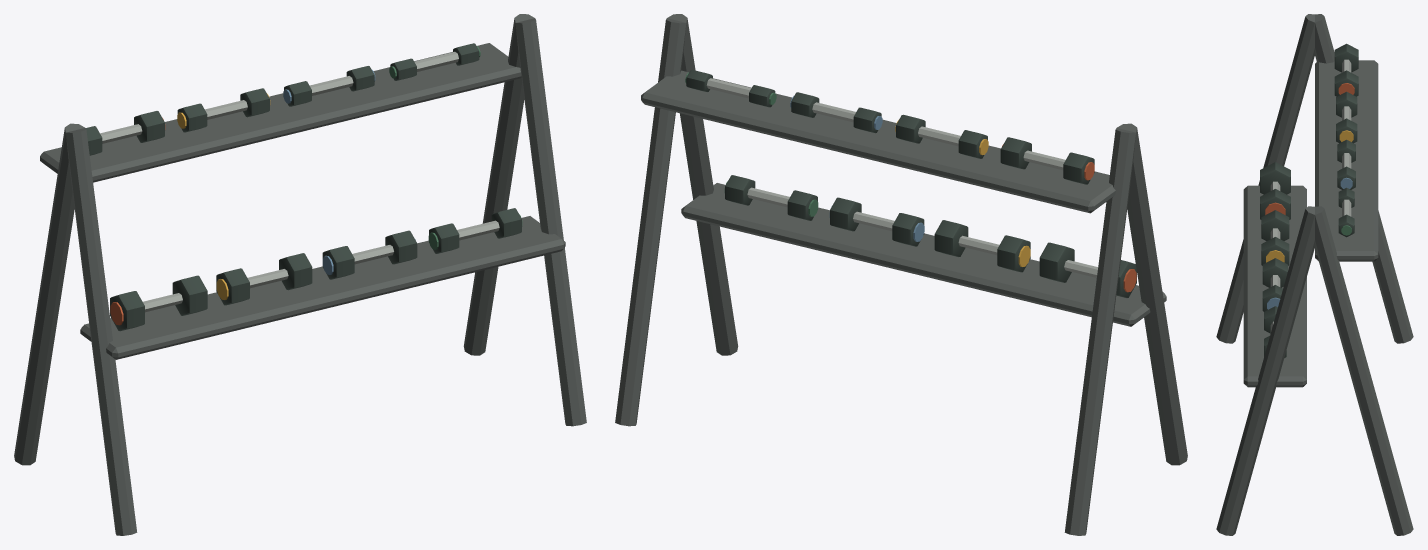
File: dumbbell_rack.glb
3 views of the same model, side by side, from view 1: azimuth 30°, elevation 25°; view 2: azimuth 150°, elevation 25°; view 3: azimuth 270°, elevation 25° (orthographic). The views are drawn at different scales.
Visible parts, largest first — view 1: FURN-dumbbell_rack; view 2: FURN-dumbbell_rack; view 3: FURN-dumbbell_rack.
Boxes of the visible parts, <box> form: FURN-dumbbell_rack: <box>14,14,586,535</box>; FURN-dumbbell_rack: <box>615,14,1187,535</box>; FURN-dumbbell_rack: <box>1216,14,1413,535</box>.
Bounding box in the file's own units: 1.2 × 0.9062 × 0.4985.
